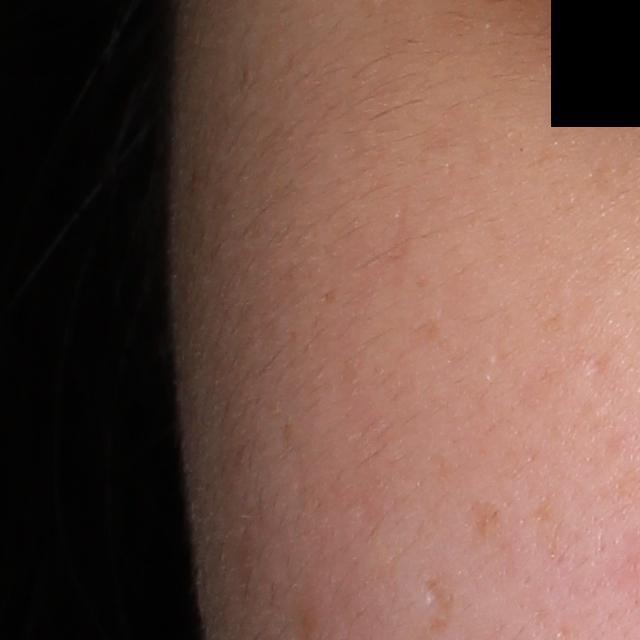atrophic_scar: (584, 349, 610, 376)
melasma: (468, 501, 505, 541)
